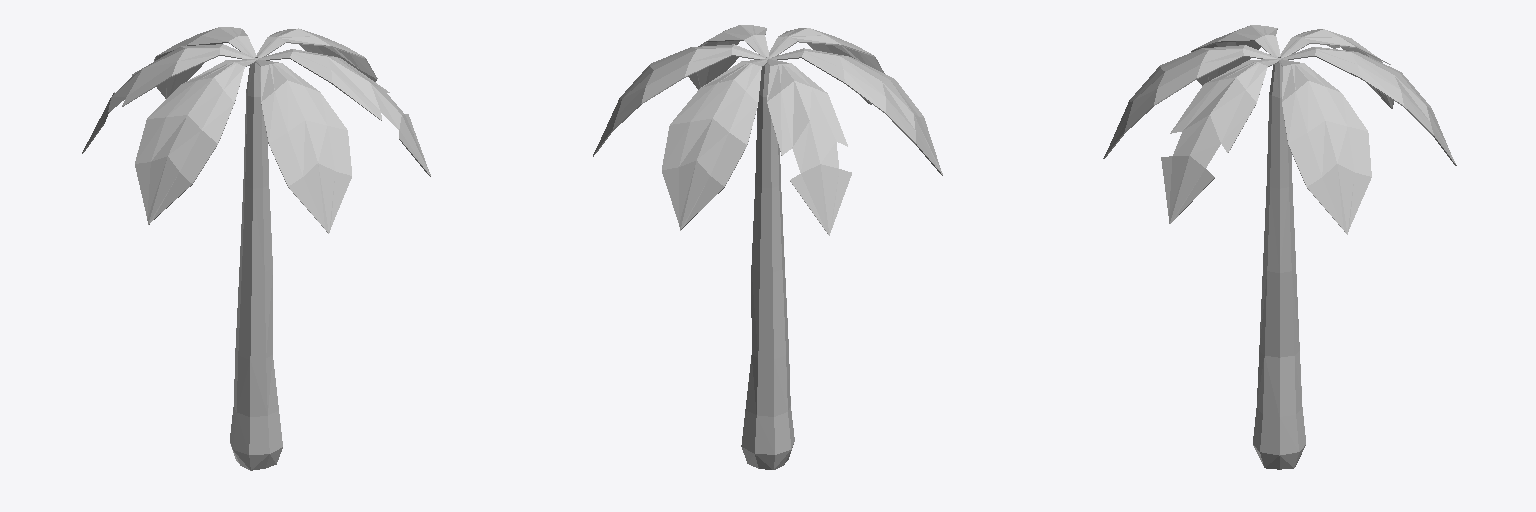
The model's file is Palmtree5.obj.
3 renders of one model, left to right at view 1: azimuth 30°, elevation 25°; view 2: azimuth 150°, elevation 25°; view 3: azimuth 270°, elevation 25°, orthographic.
Parts seen in each view (by area): view 1: Cube.001_Cube.002, Plane.003_Plane.005, Plane.002_Plane.004, Plane.004_Plane.006, Plane.001_Plane.003, Plane.005_Plane.007, Plane; view 2: Cube.001_Cube.002, Plane, Plane.001_Plane.003, Plane.002_Plane.004, Plane.005_Plane.007, Plane.003_Plane.005, Plane.004_Plane.006; view 3: Cube.001_Cube.002, Plane.005_Plane.007, Plane.004_Plane.006, Plane.003_Plane.005, Plane, Plane.002_Plane.004, Plane.001_Plane.003.
Boxes of the visible parts, box(x1,y1,x2,y2) form: Cube.001_Cube.002: box(230, 58, 282, 470); Plane.003_Plane.005: box(255, 59, 351, 233); Plane.002_Plane.004: box(135, 59, 255, 224); Plane.004_Plane.006: box(259, 49, 430, 176); Plane.001_Plane.003: box(82, 44, 253, 153); Plane.005_Plane.007: box(256, 28, 377, 81); Plane: box(154, 27, 256, 98); Cube.001_Cube.002: box(741, 57, 794, 469); Plane: box(662, 59, 767, 230); Plane.001_Plane.003: box(767, 59, 851, 235); Plane.002_Plane.004: box(771, 48, 942, 175); Plane.005_Plane.007: box(593, 44, 764, 156); Plane.003_Plane.005: box(769, 28, 884, 104); Plane.004_Plane.006: box(688, 25, 768, 89); Cube.001_Cube.002: box(1253, 58, 1305, 469); Plane.005_Plane.007: box(1278, 59, 1371, 234); Plane.004_Plane.006: box(1161, 59, 1278, 223); Plane.003_Plane.005: box(1103, 45, 1276, 158); Plane: box(1282, 47, 1456, 165); Plane.002_Plane.004: box(1191, 25, 1280, 85); Plane.001_Plane.003: box(1280, 29, 1393, 108).
Size of the model in its own units: 5.4 by 7.51 by 5.83.